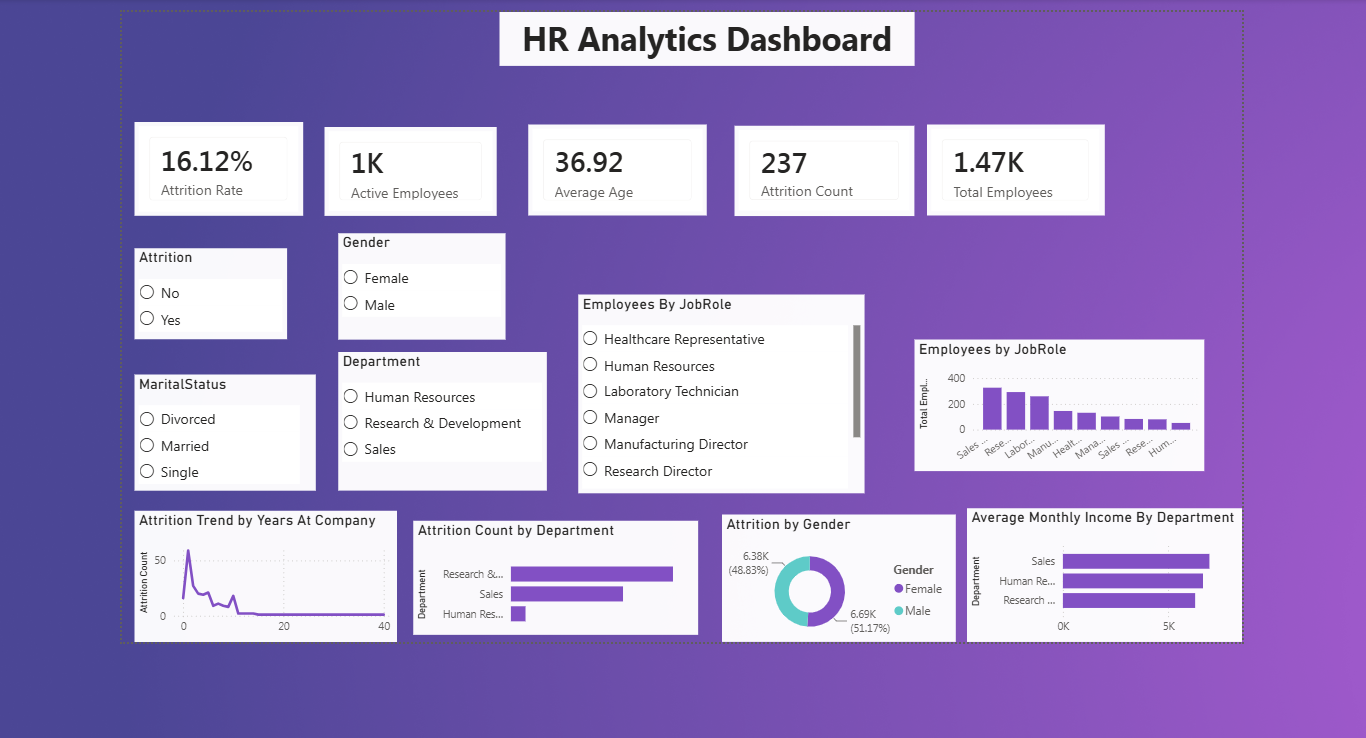

This screenshot's page, from the dashboard's own definition file:
{"tool":"powerbi","page":{"name":"Page 1","canvas":[1280,720],"ordinal":0},"visuals":[{"type":"cardVisual","fields":{"Data":["WA_Fn-UseC_-HR-Employee-Attrition.Active Employees"]},"box":[231.4,131.4,197.1,101.4],"z":0},{"type":"cardVisual","fields":{"Data":["WA_Fn-UseC_-HR-Employee-Attrition.Attrition Count"]},"box":[700,130,205.7,102.9],"z":1000},{"type":"cardVisual","fields":{"Data":["WA_Fn-UseC_-HR-Employee-Attrition.Attrition Rate"]},"box":[14.3,125.7,192.9,107.1],"z":2000},{"type":"cardVisual","fields":{"Data":["WA_Fn-UseC_-HR-Employee-Attrition.Average Age"]},"box":[464.3,128.6,204.3,104.3],"z":3000},{"type":"cardVisual","fields":{"Data":["WA_Fn-UseC_-HR-Employee-Attrition.Total Employees"]},"box":[920,128.6,202.9,104.3],"z":4000},{"type":"textbox","box":[431.4,0,474.3,61.4],"z":5000},{"type":"clusteredBarChart","fields":{"Category":["WA_Fn-UseC_-HR-Employee-Attrition.Department"],"Y":["WA_Fn-UseC_-HR-Employee-Attrition.Attrition Count"]},"box":[332.9,581.4,325.7,130],"z":6000},{"type":"donutChart","title":"Attrition by Gender","fields":{"Category":["WA_Fn-UseC_-HR-Employee-Attrition.Gender"],"Y":["Avg(WA_Fn-UseC_-HR-Employee-Attrition.MonthlyIncome)"]},"box":[685.7,574.3,267.1,145.7],"z":7000},{"type":"columnChart","title":"Employees by JobRole","fields":{"Category":["WA_Fn-UseC_-HR-Employee-Attrition.JobRole"],"Y":["WA_Fn-UseC_-HR-Employee-Attrition.Total Employees"]},"box":[905.7,374.3,331.4,150],"z":8000},{"type":"clusteredBarChart","title":"Average Monthly Income By Department","fields":{"Category":["WA_Fn-UseC_-HR-Employee-Attrition.Department"],"Y":["Avg(WA_Fn-UseC_-HR-Employee-Attrition.MonthlyIncome)"]},"box":[965.7,567.1,314.3,152.9],"z":9000},{"type":"lineChart","title":"Attrition Trend by Years At Company","fields":{"Category":["WA_Fn-UseC_-HR-Employee-Attrition.YearsAtCompany"],"Y":["WA_Fn-UseC_-HR-Employee-Attrition.Attrition Count"]},"box":[0,570,314,150],"z":10000},{"type":"listSlicer","fields":{"Values":["WA_Fn-UseC_-HR-Employee-Attrition.Department"]},"box":[247.1,388.6,238.6,158.6],"z":10001},{"type":"listSlicer","title":"Employees By JobRole","fields":{"Values":["WA_Fn-UseC_-HR-Employee-Attrition.JobRole"]},"box":[521.4,322.9,327.1,227.1],"z":10002},{"type":"listSlicer","fields":{"Values":["WA_Fn-UseC_-HR-Employee-Attrition.Gender"]},"box":[247.1,252.9,191.4,121.4],"z":10003},{"type":"listSlicer","fields":{"Values":["WA_Fn-UseC_-HR-Employee-Attrition.Attrition"]},"box":[14.3,270,174.3,104.3],"z":10004},{"type":"listSlicer","fields":{"Values":["WA_Fn-UseC_-HR-Employee-Attrition.MaritalStatus"]},"box":[0,414.3,221.4,132.9],"z":10005}]}

Visuals, with their boxes on the page's 1280x720 design canvas (x1, y1, x2, y2). These are canvas units, not pixel positions in the 1366x738 screenshot, which may show the page scaled, cropped or inside an application window:
cardVisual - WA_Fn-UseC_-HR-Employee-Attrition.Active Employees: (231, 131, 428, 233)
cardVisual - WA_Fn-UseC_-HR-Employee-Attrition.Attrition Count: (700, 130, 906, 233)
cardVisual - WA_Fn-UseC_-HR-Employee-Attrition.Attrition Rate: (14, 126, 207, 233)
cardVisual - WA_Fn-UseC_-HR-Employee-Attrition.Average Age: (464, 129, 669, 233)
cardVisual - WA_Fn-UseC_-HR-Employee-Attrition.Total Employees: (920, 129, 1123, 233)
textbox: (431, 0, 906, 61)
clusteredBarChart - WA_Fn-UseC_-HR-Employee-Attrition.Department x WA_Fn-UseC_-HR-Employee-Attrition.Attrition Count: (333, 581, 659, 711)
"Attrition by Gender" donutChart: (686, 574, 953, 720)
"Employees by JobRole" columnChart: (906, 374, 1237, 524)
"Average Monthly Income By Department" clusteredBarChart: (966, 567, 1280, 720)
"Attrition Trend by Years At Company" lineChart: (0, 570, 314, 720)
listSlicer - WA_Fn-UseC_-HR-Employee-Attrition.Department: (247, 389, 486, 547)
"Employees By JobRole" listSlicer: (521, 323, 848, 550)
listSlicer - WA_Fn-UseC_-HR-Employee-Attrition.Gender: (247, 253, 438, 374)
listSlicer - WA_Fn-UseC_-HR-Employee-Attrition.Attrition: (14, 270, 189, 374)
listSlicer - WA_Fn-UseC_-HR-Employee-Attrition.MaritalStatus: (0, 414, 221, 547)
